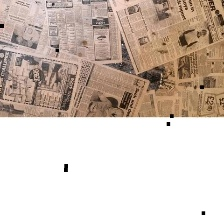news_paper: (108, 0, 223, 76), (39, 44, 150, 118), (0, 45, 83, 119), (46, 0, 126, 67), (169, 35, 223, 90), (0, 0, 49, 58), (155, 84, 224, 117), (125, 85, 160, 118)
